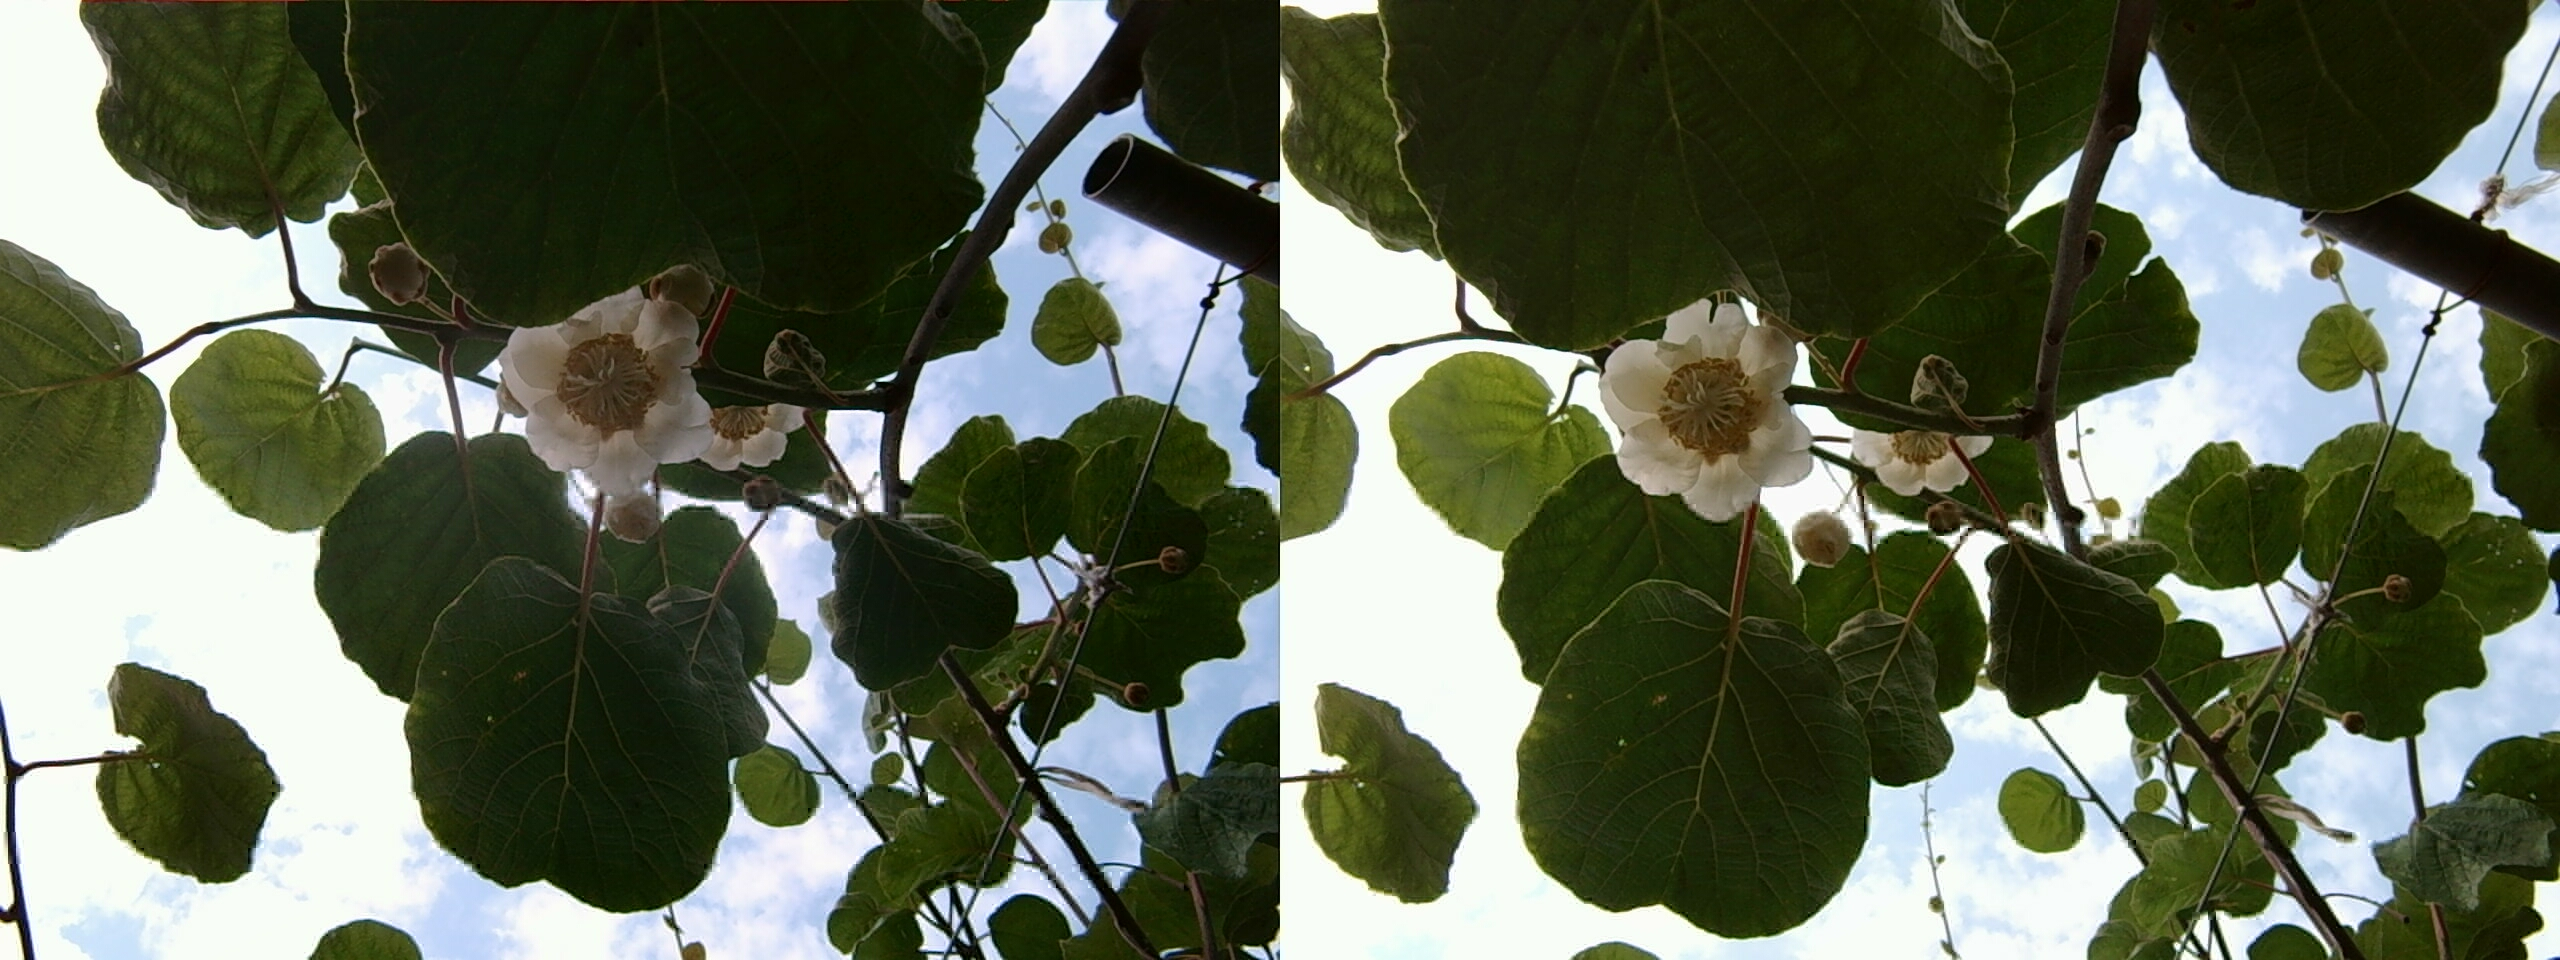flower: (485, 266, 746, 509), (1590, 292, 1814, 513)
